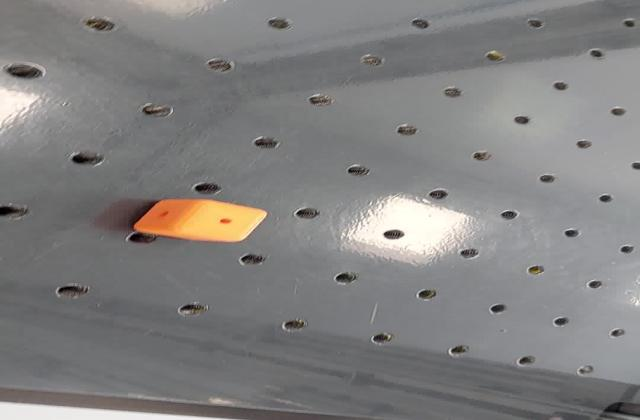cube: (128, 198, 270, 244)
